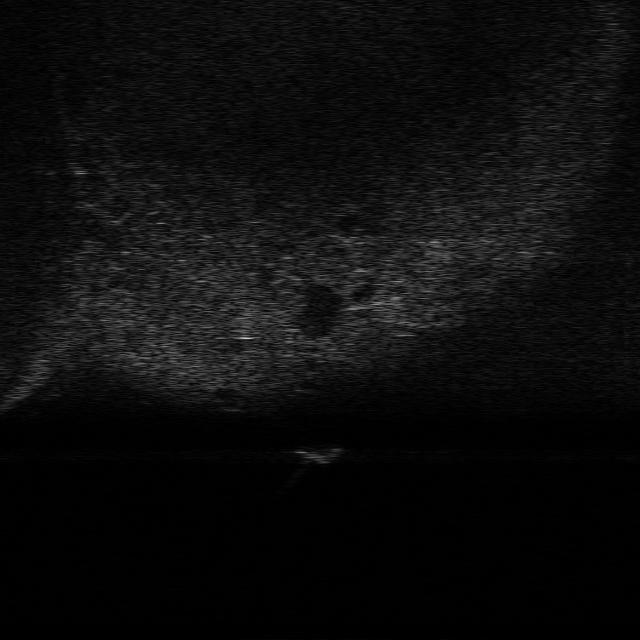cube: (298, 442, 344, 465)
